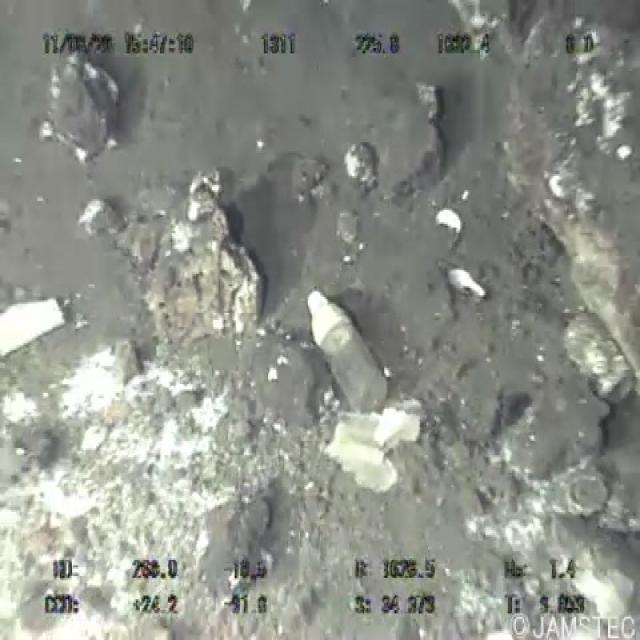plastic: (302, 284, 390, 420)
